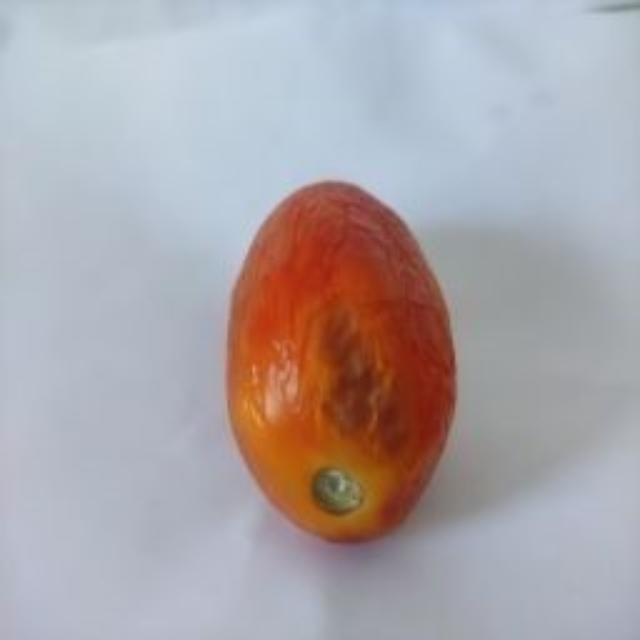defect: (216, 165, 462, 553)
